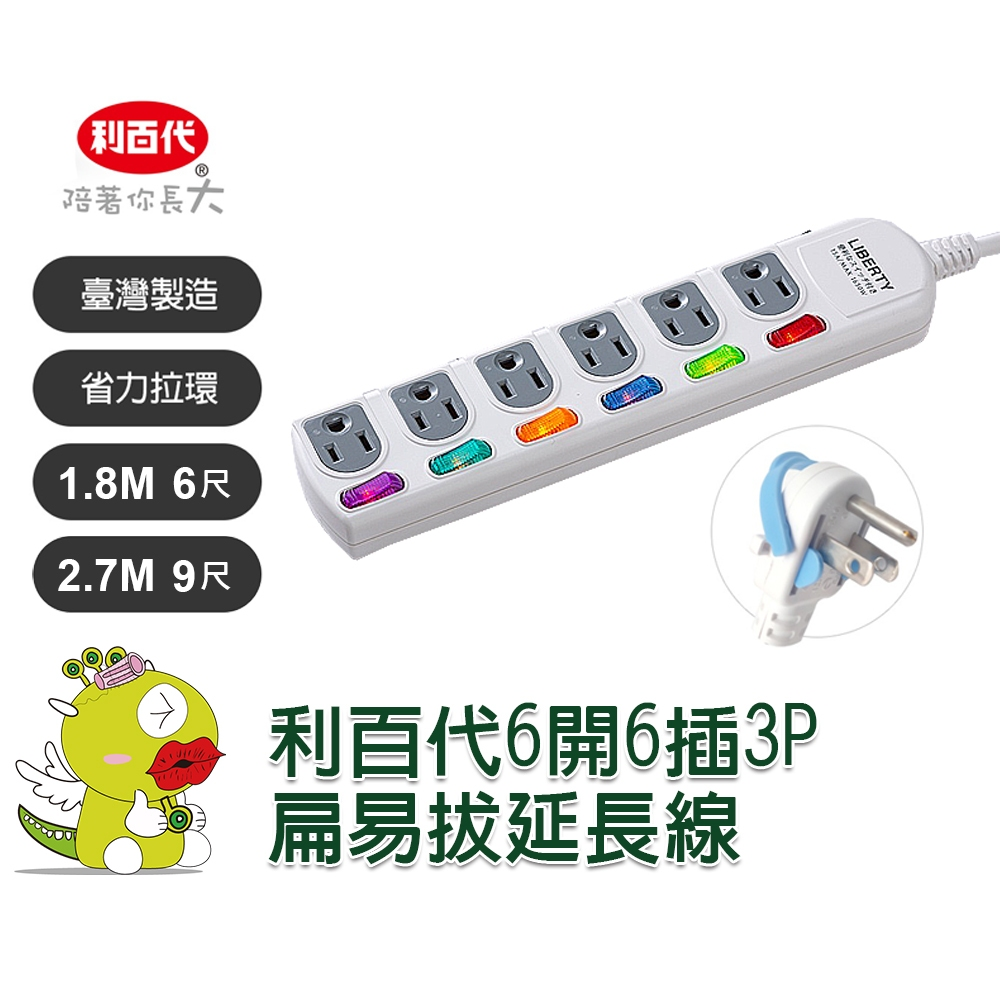socket: (291, 215, 986, 561)
